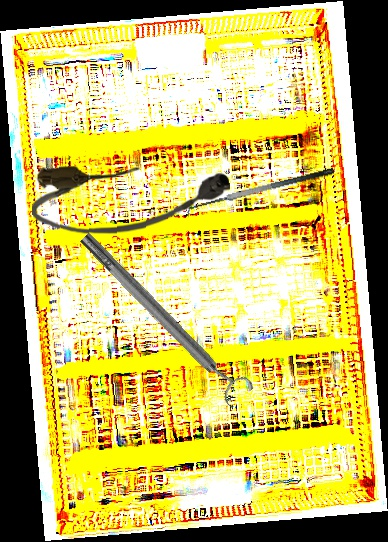Cannula: (30, 160, 232, 238)
Fixation Ring: (72, 223, 256, 411)
Spatula Surgical: (184, 167, 338, 221)
